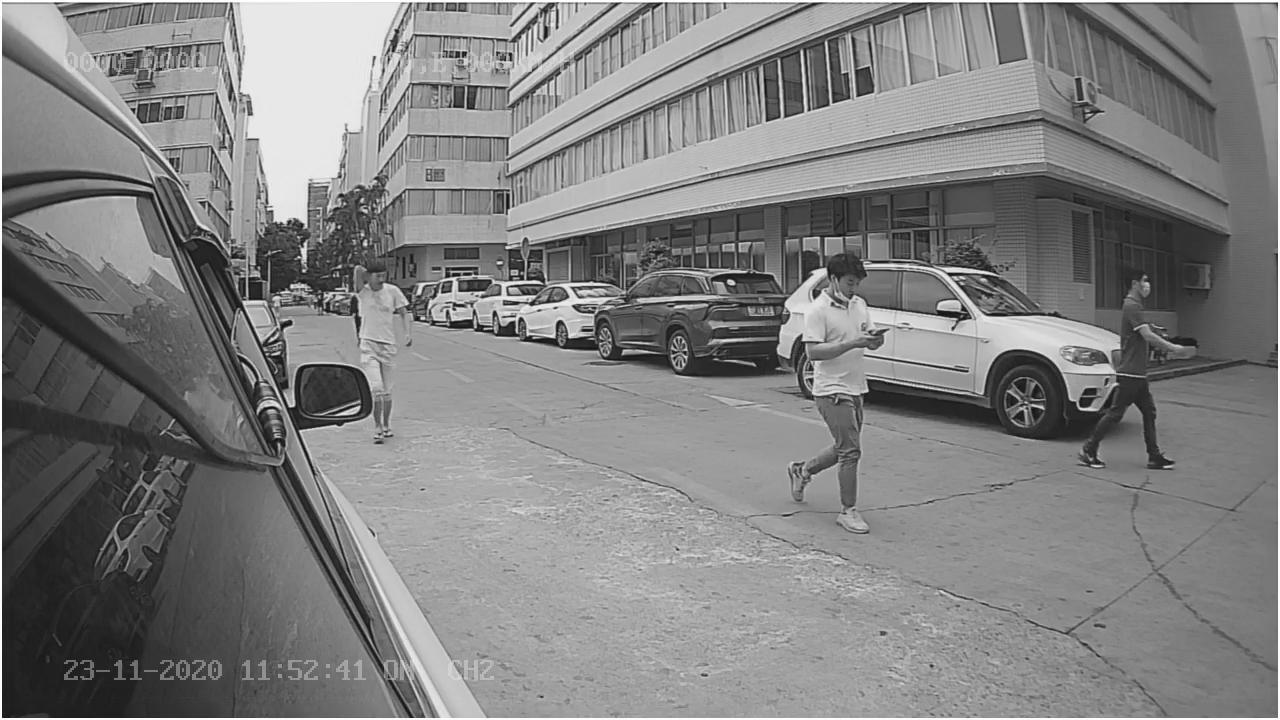person: (798, 248, 871, 528), (354, 258, 415, 366)
